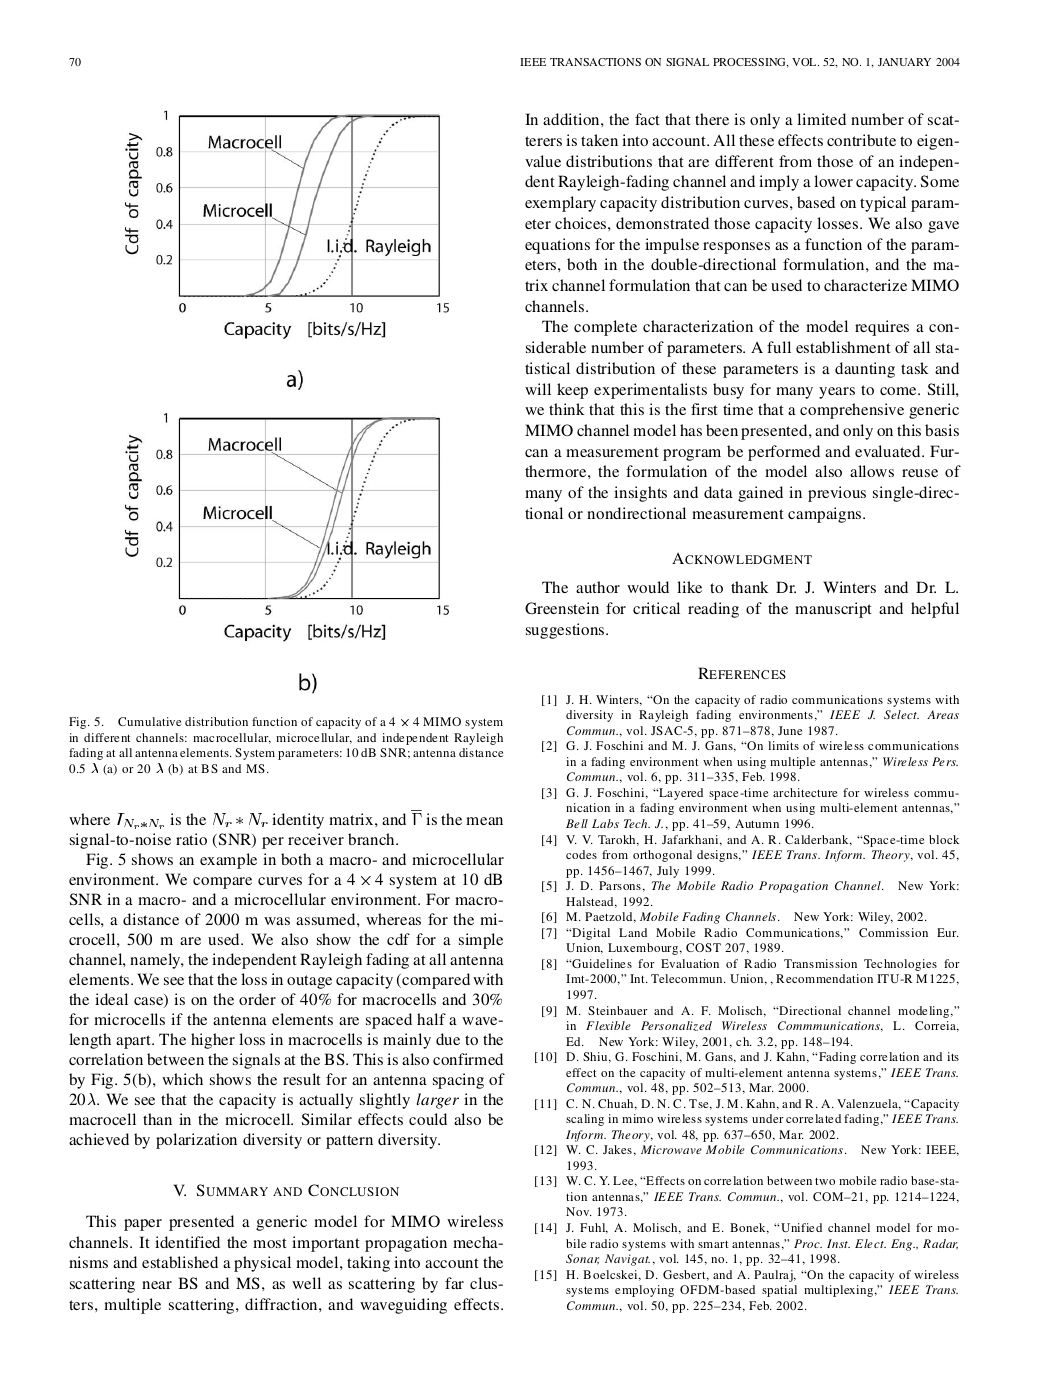figure: (125, 110, 448, 338), (124, 413, 448, 614)
formula: (566, 1207, 626, 1216)
